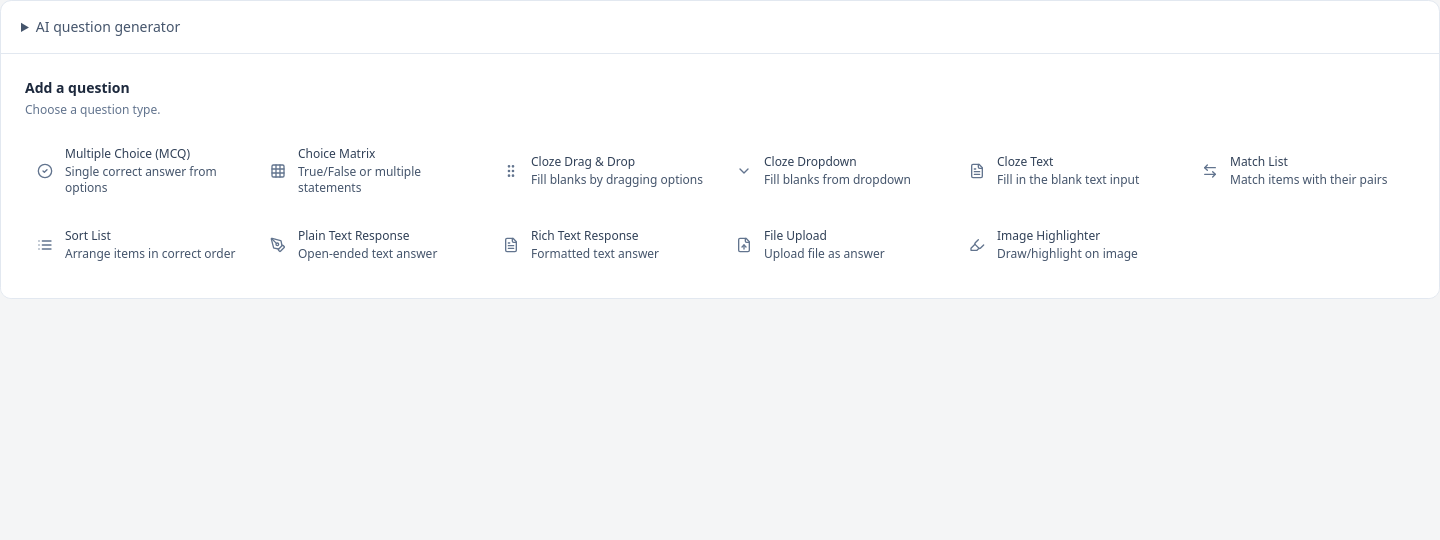
it: InlineTryoutBuilder AI generation — RAG-grounded, non-mcq types › normalizes a choice_matrix response into statements + answers
Click the heading "AI question generator": (108, 26) [36,17,180,36]
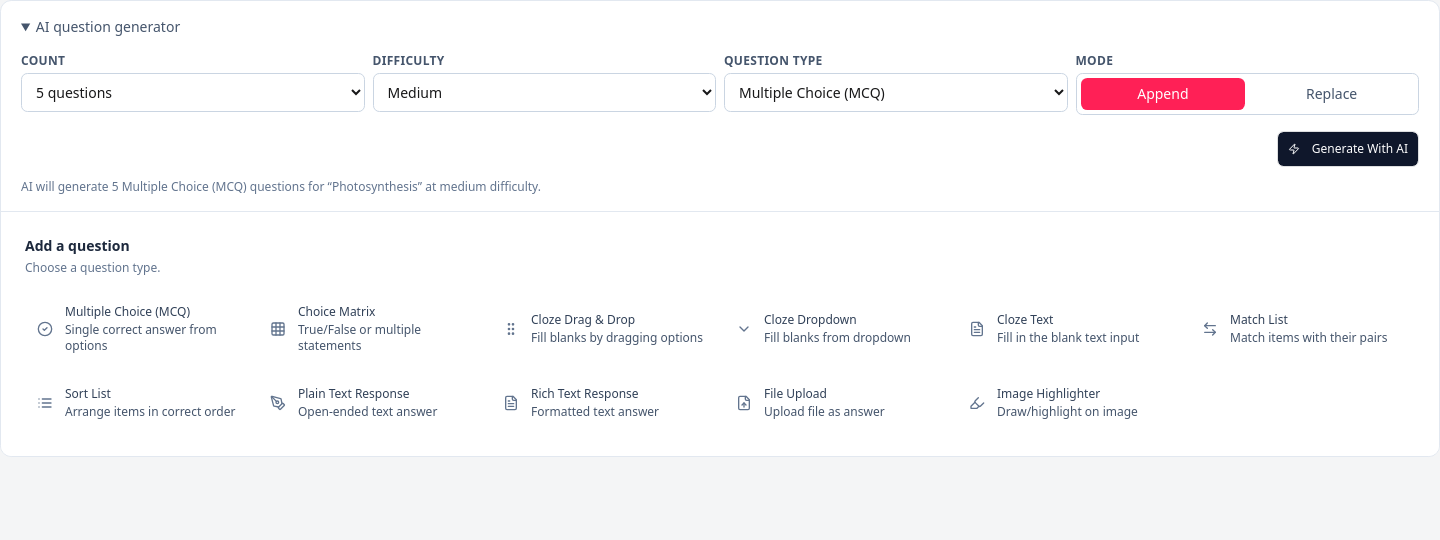
Select "Choice Matrix" in the dropdown named "Question Type": (896, 92) [724,73,1068,112]
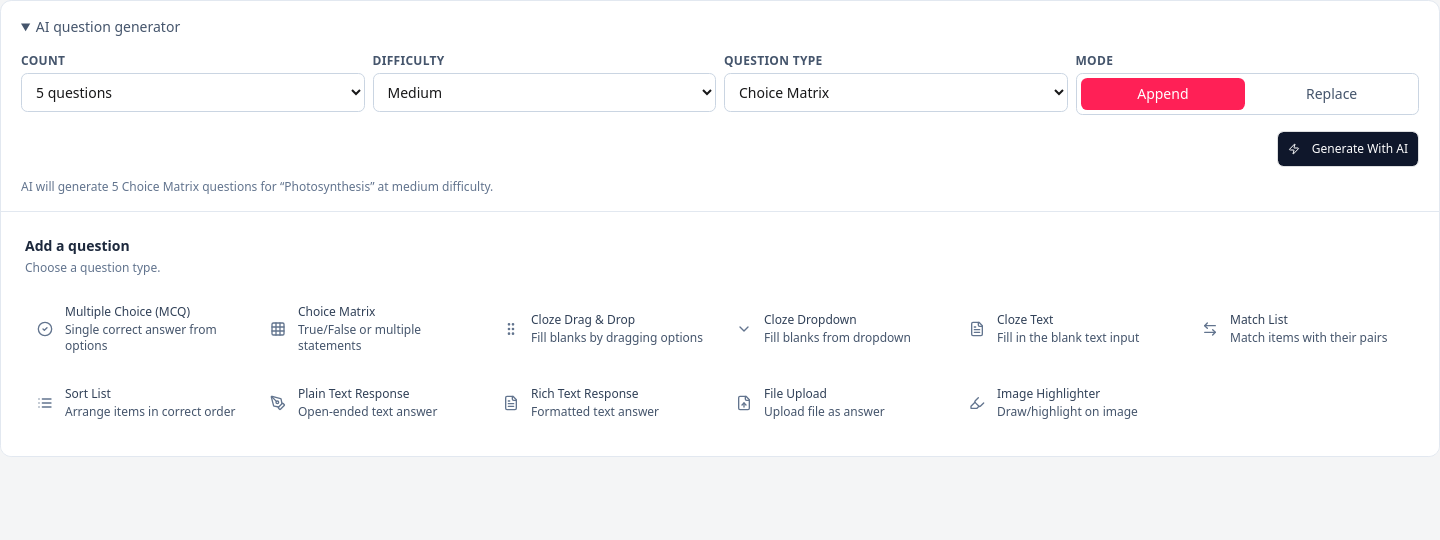
Click the button "Generate With AI": (1348, 149) [1277,131,1419,167]
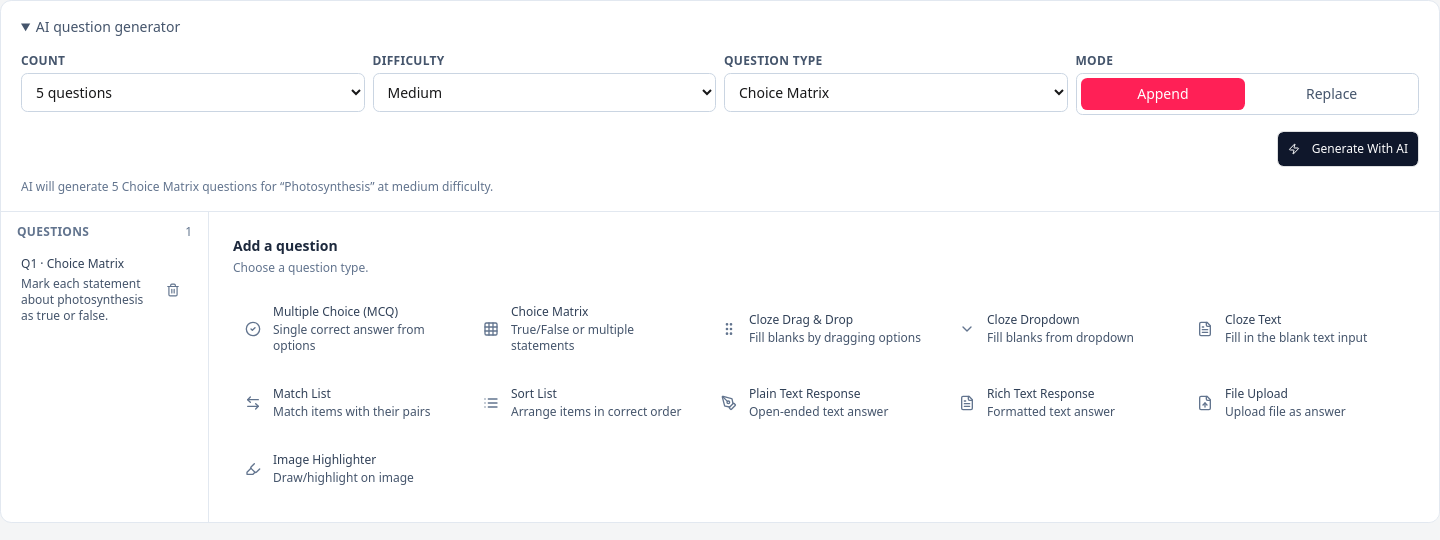
Result: the text "Mark each statement about photosynthesis as true or false." is shown at [21,276,150,324]
